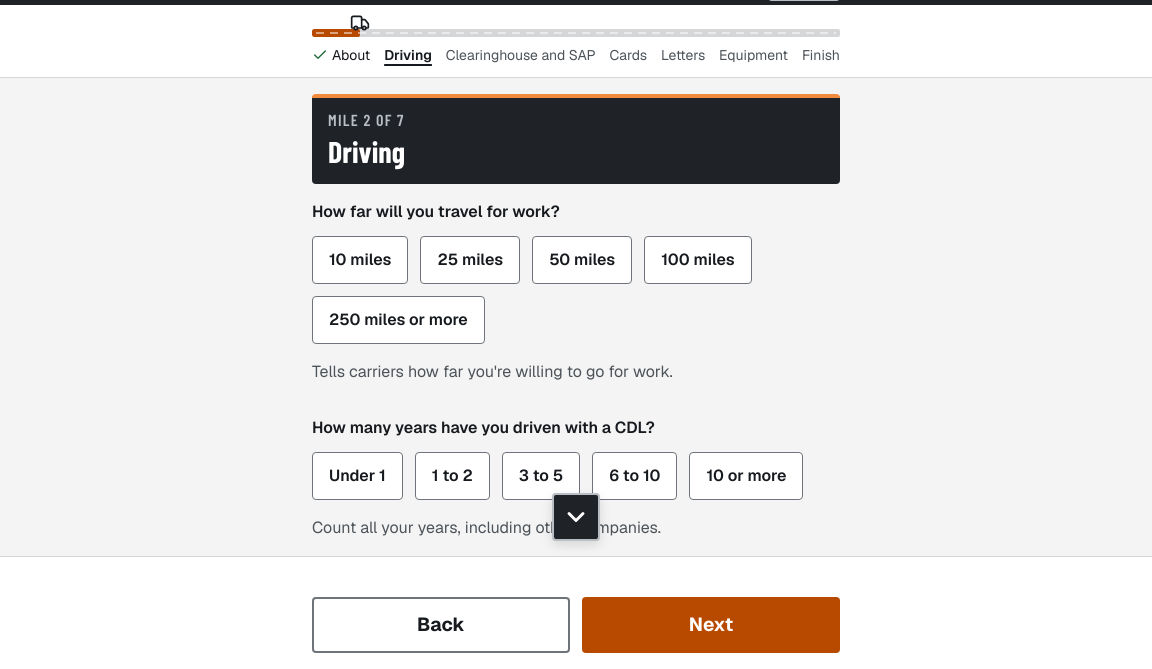
Scenario: Driving page: distance, years, record › stops on the screen the server rejects, and leaves the later ones unsaved
Click the button "50 miles". click: x=582, y=260
box: [532, 236, 632, 284]
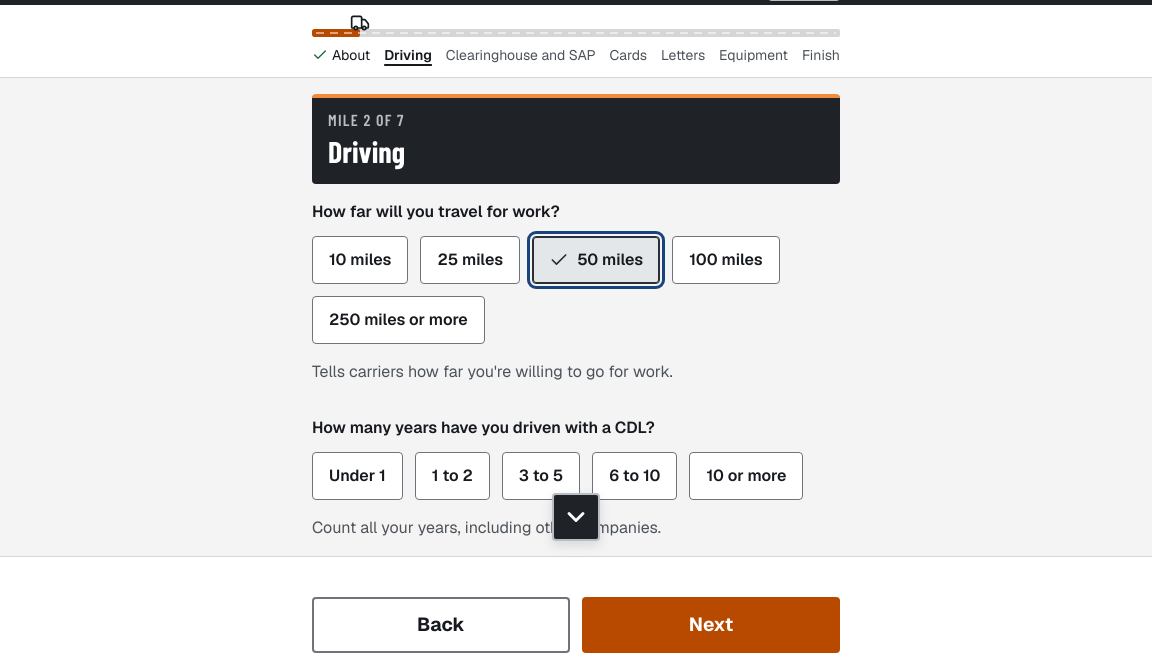
Click the button "10 or more". click: x=746, y=476
box: [689, 452, 803, 500]
(page scrolled)
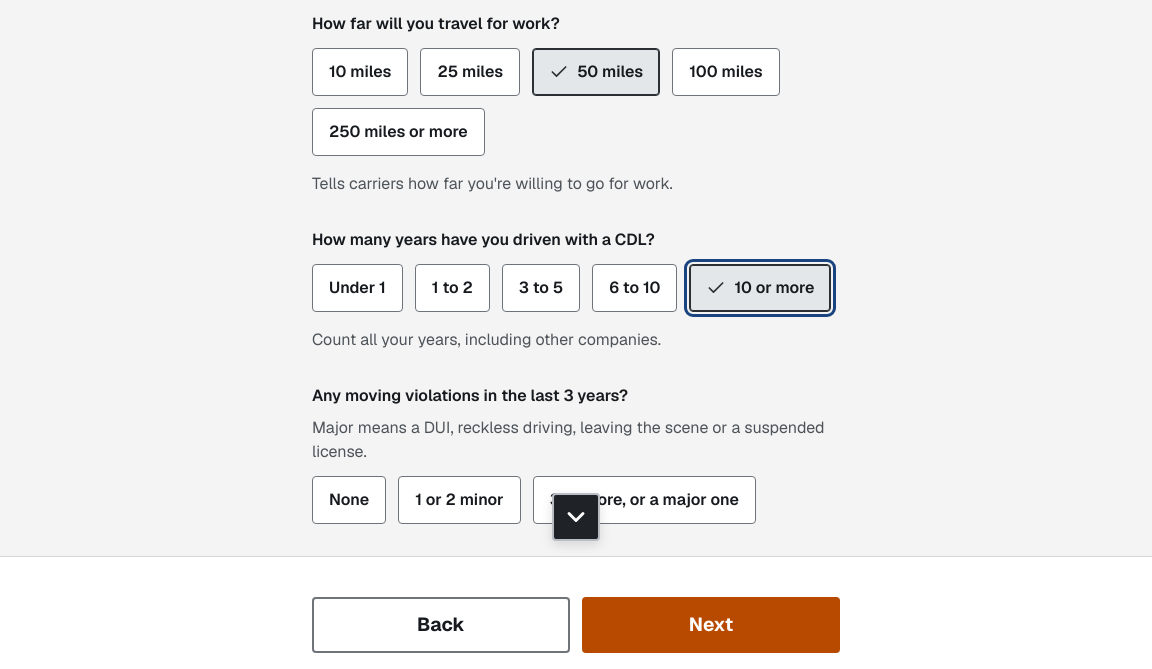
Click the button "None". click: x=349, y=500
box: [312, 476, 386, 524]
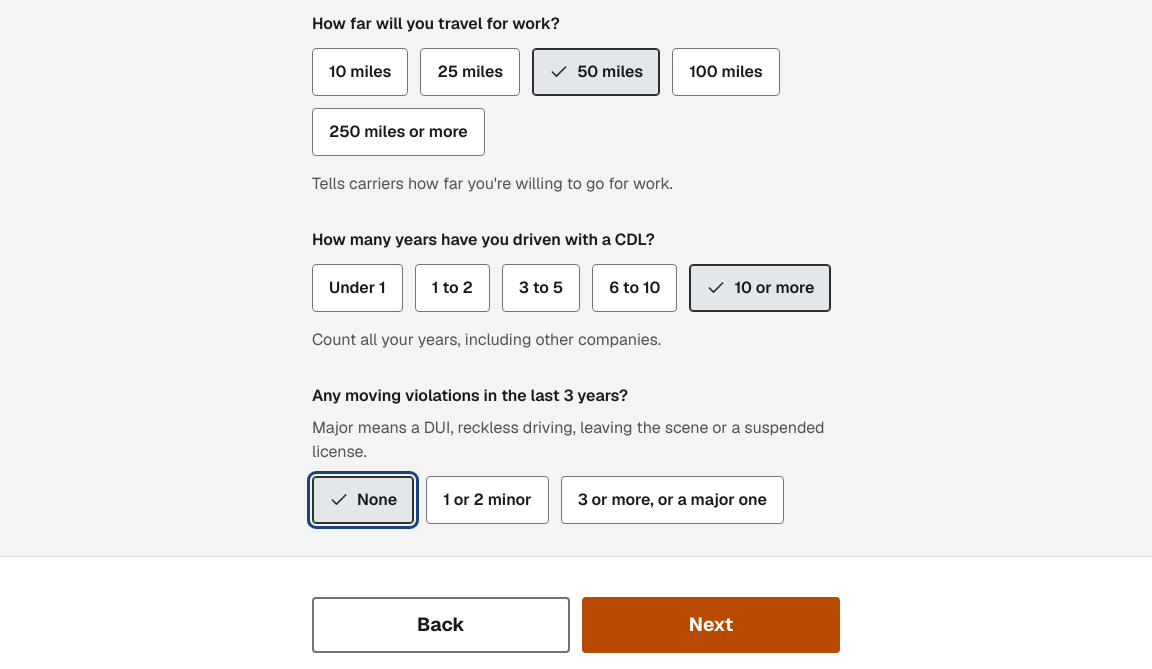
Click the button "Next". click: x=711, y=625
box: [582, 597, 840, 653]
(page scrolled)
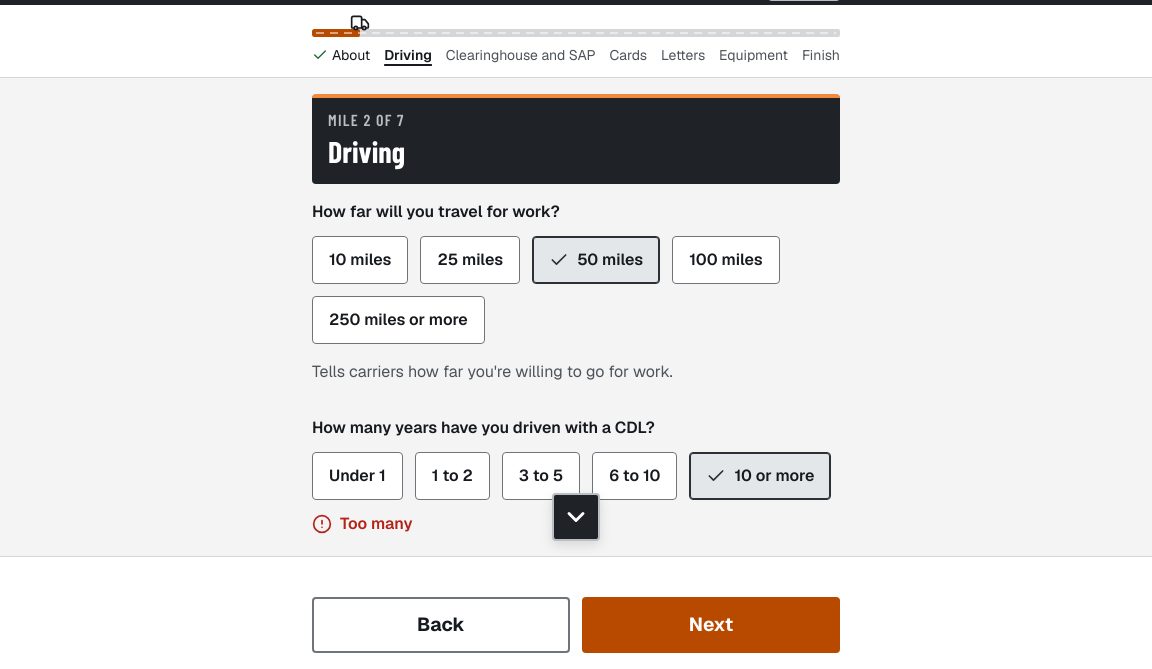
Check: the heading reads "Driving", box [328, 133, 405, 169]
Check: the text "Too many" is shown, box [340, 512, 412, 536]
